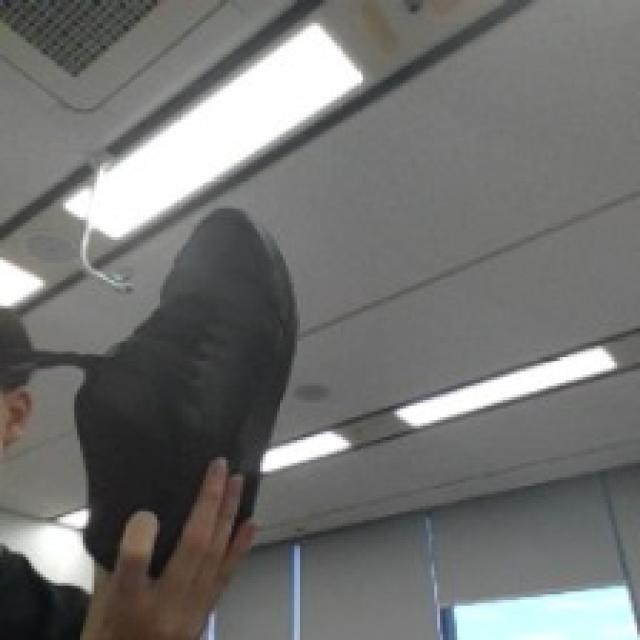shoe: (51, 178, 317, 597)
